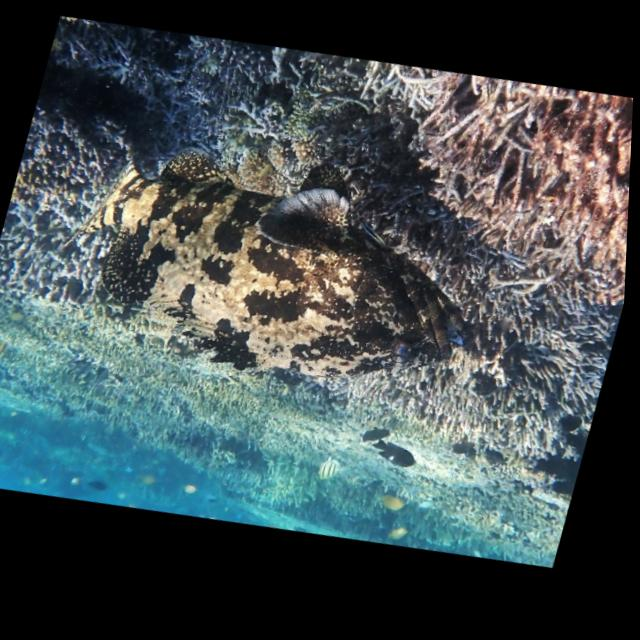Groupers: (26, 96, 509, 437)
